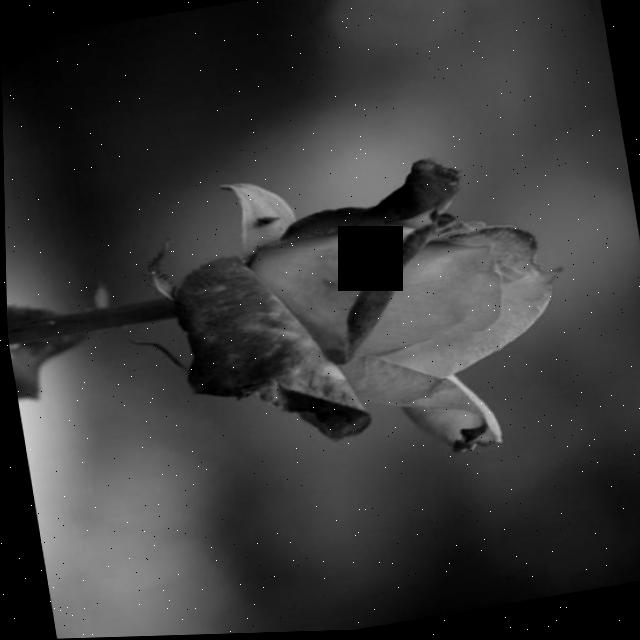rose: (89, 136, 584, 493)
